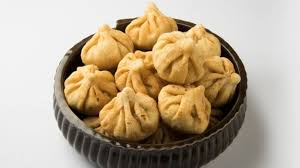modak: (98, 85, 160, 140), (112, 45, 169, 98), (80, 18, 137, 68), (154, 83, 217, 127), (195, 53, 245, 108), (154, 34, 209, 83), (123, 1, 179, 46), (64, 66, 120, 109)
